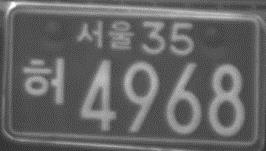3: (140, 19, 166, 56)
4: (78, 56, 117, 131)
5: (169, 20, 195, 57)
6: (164, 60, 204, 136)
8: (206, 64, 248, 139)
9: (122, 60, 161, 134)
서울_O: (74, 19, 135, 52)
허: (22, 56, 66, 106)
